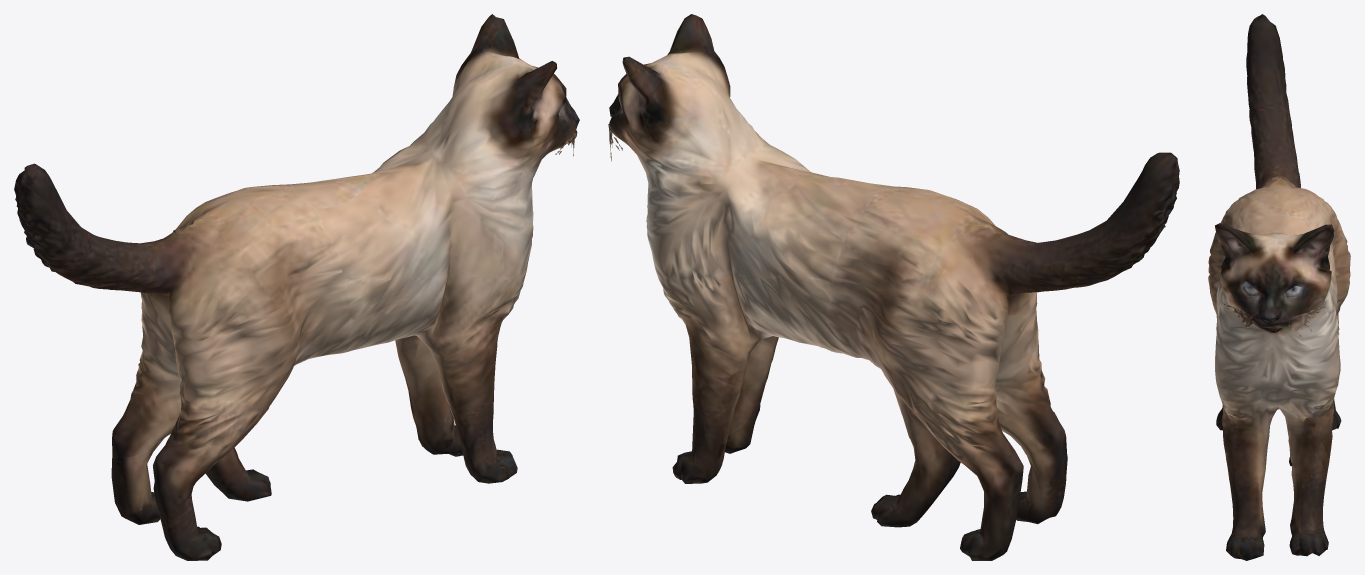
The model's file is LEFTFANG-lo.glb.
3 renders of one model, left to right at view 1: azimuth 30°, elevation 25°; view 2: azimuth 150°, elevation 25°; view 3: azimuth 270°, elevation 25°, orthographic. The views are drawn at different scales.
Visible parts, largest first — view 1: tripo_node_a7c4d0fc-16dc-4801-b43b-c998d38e8f6b; view 2: tripo_node_a7c4d0fc-16dc-4801-b43b-c998d38e8f6b; view 3: tripo_node_a7c4d0fc-16dc-4801-b43b-c998d38e8f6b.
Part boxes in pixels (box(x1,y1,x2,y2)): tripo_node_a7c4d0fc-16dc-4801-b43b-c998d38e8f6b: box(14, 14, 579, 560); tripo_node_a7c4d0fc-16dc-4801-b43b-c998d38e8f6b: box(608, 14, 1179, 560); tripo_node_a7c4d0fc-16dc-4801-b43b-c998d38e8f6b: box(1208, 14, 1350, 560).
Size of the model in its own units: 1.42 by 0.9936 by 0.3652.
1 material, 1 textured.
